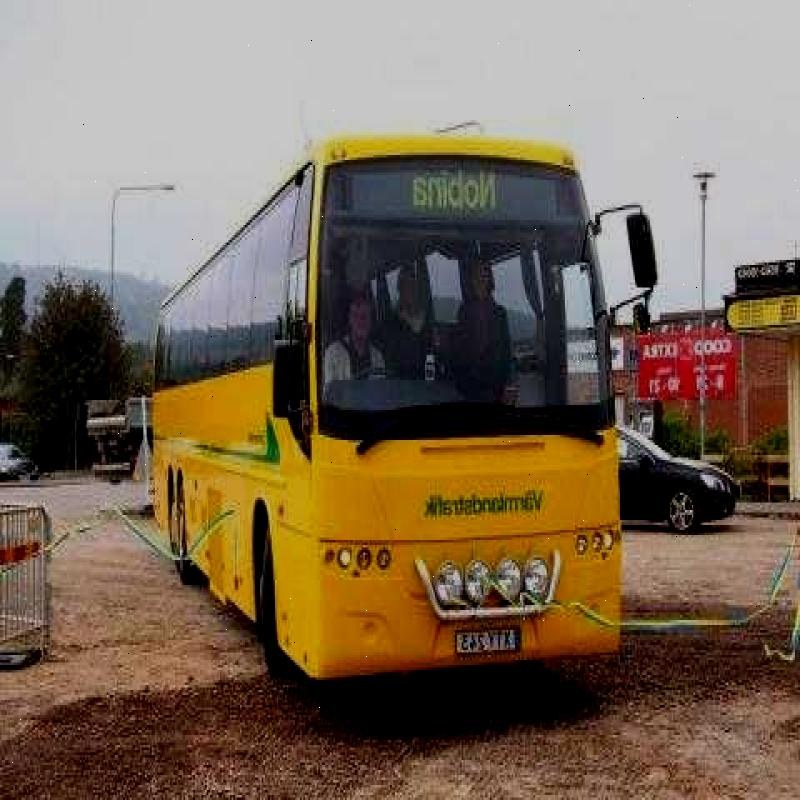bus: (118, 90, 659, 686)
